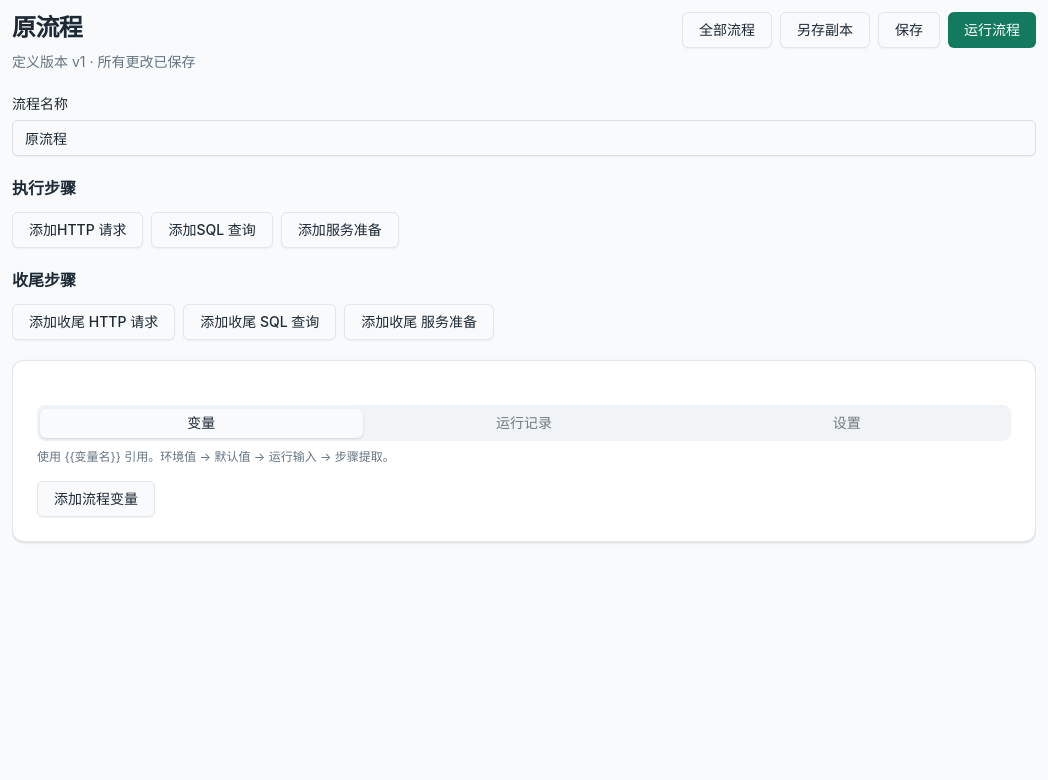
Scenario: retains live drafts after successful saves and version conflicts
This screenshot has width=1048, height=780.
Replace the text in the field labelled "流程名称" with "第一次保存" at (524, 138), box [12,120,1036,156]
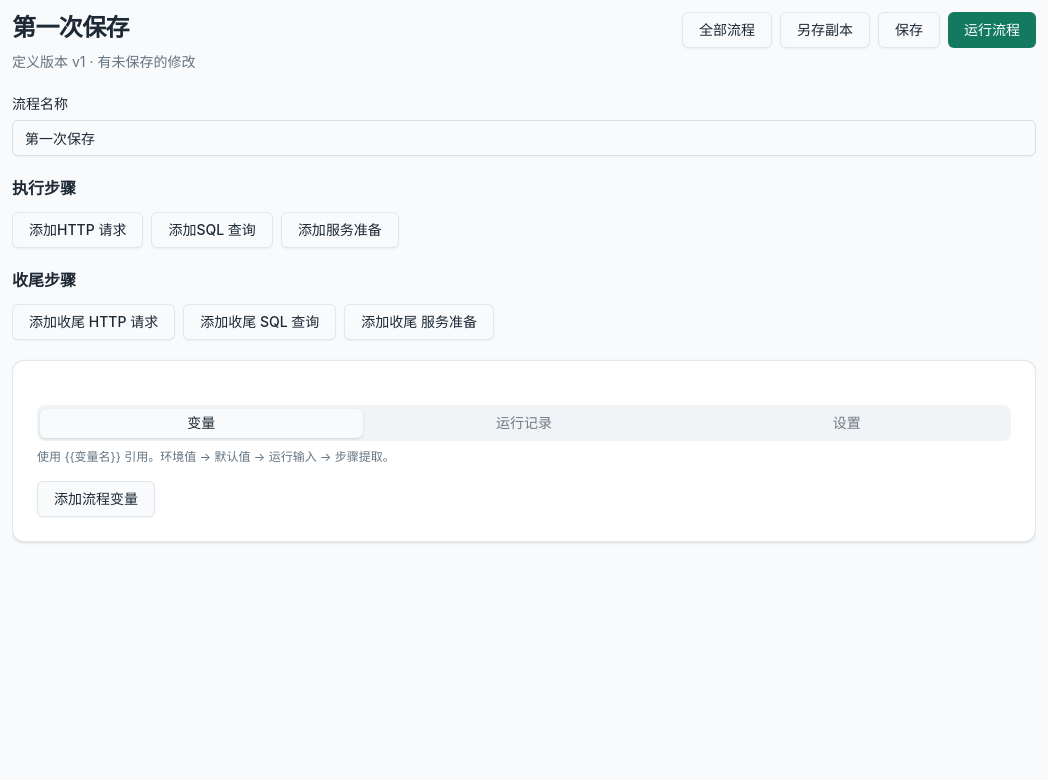
Click the button "保存" at (909, 30), box [878,12,940,48]
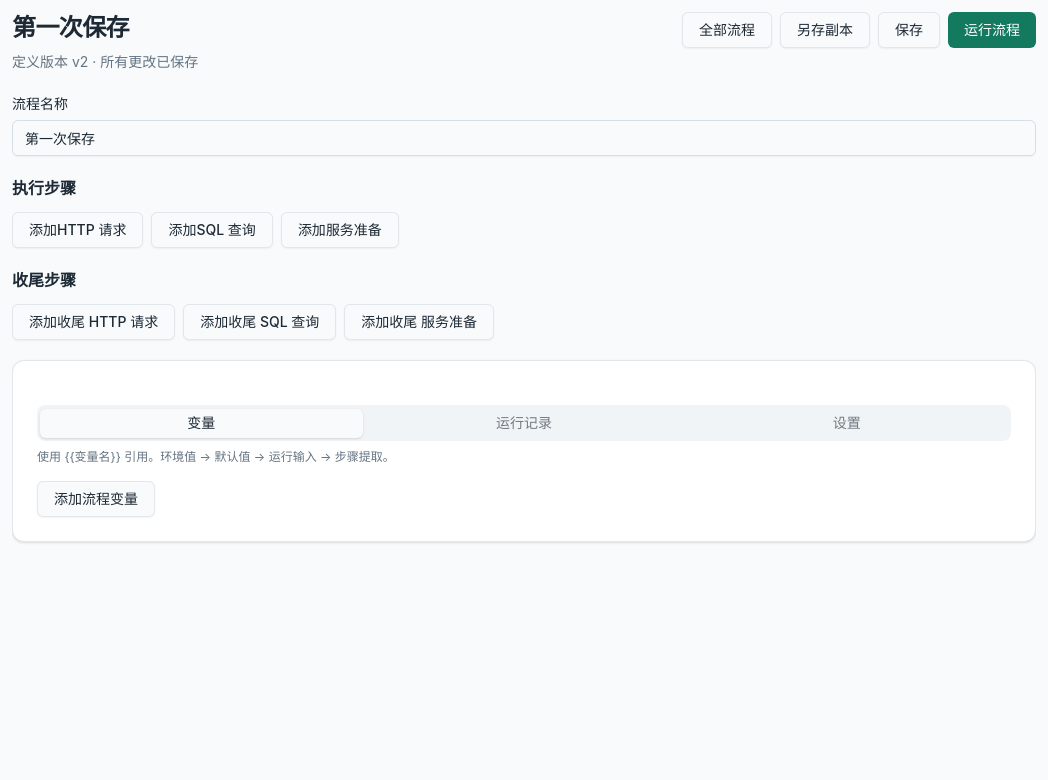
Check: the text "定义版本 v2 · 所有更改已保存" is shown, box [12,50,198,74]
Replace the text in the field labelled "流程名称" with "第二次修改" at (524, 138), box [12,120,1036,156]
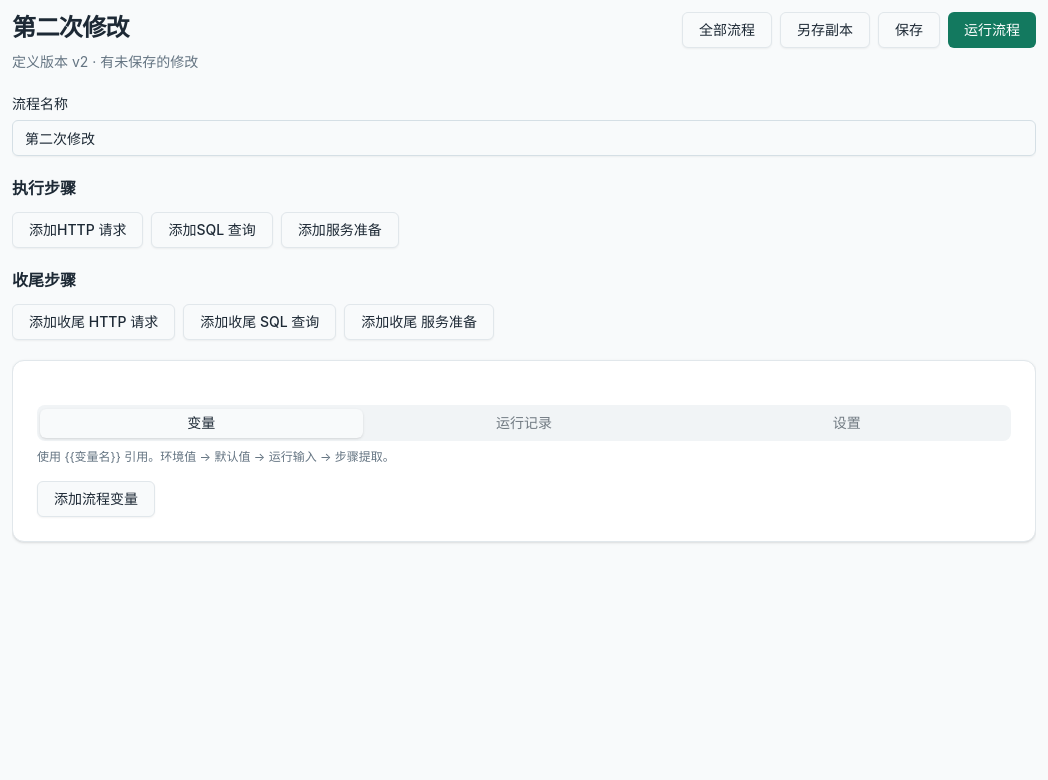
Click the button "保存" at (909, 30), box [878,12,940,48]
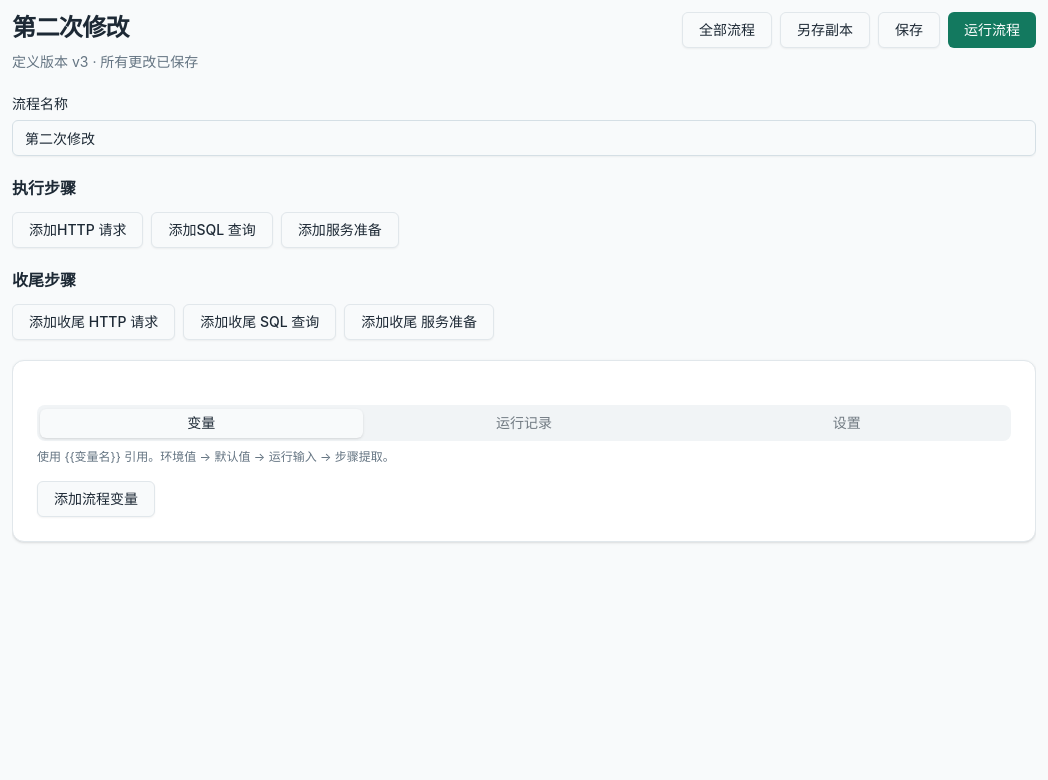
Check: the heading "第二次修改" is shown, box [12,13,129,42]
Check: the text "定义版本 v3 · 所有更改已保存" is shown, box [12,50,198,74]
Replace the text in the field labelled "流程名称" with "本地保留草稿" at (524, 138), box [12,120,1036,156]
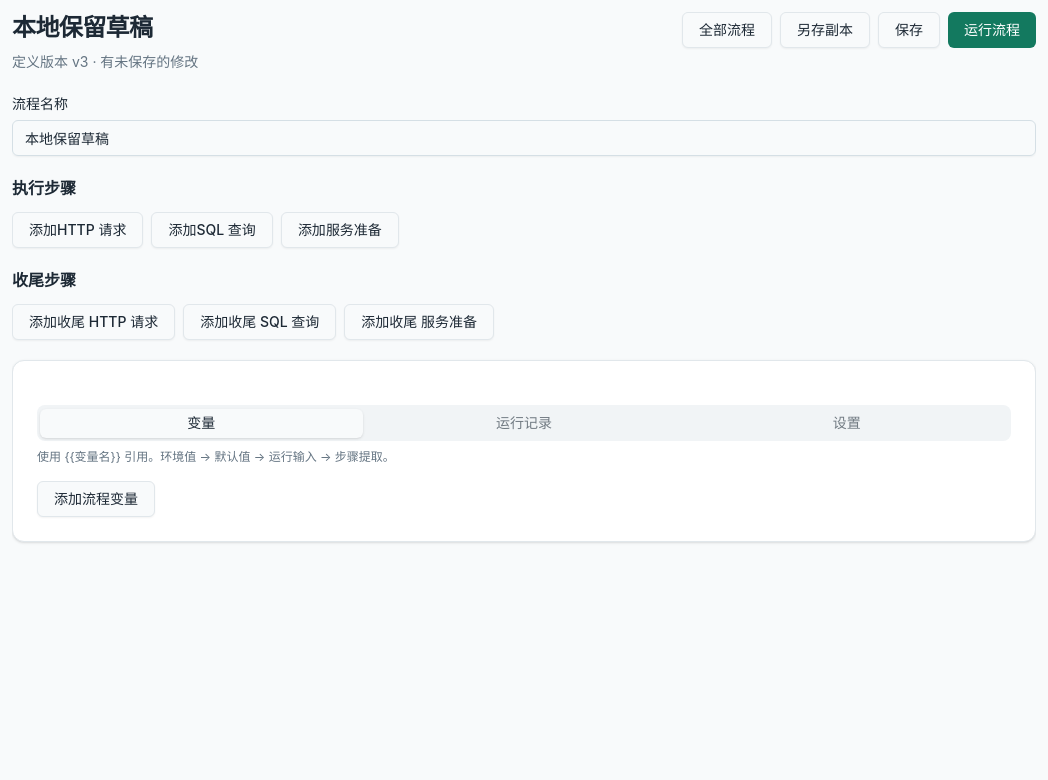
Click the button "保存" at (909, 30), box [878,12,940,48]
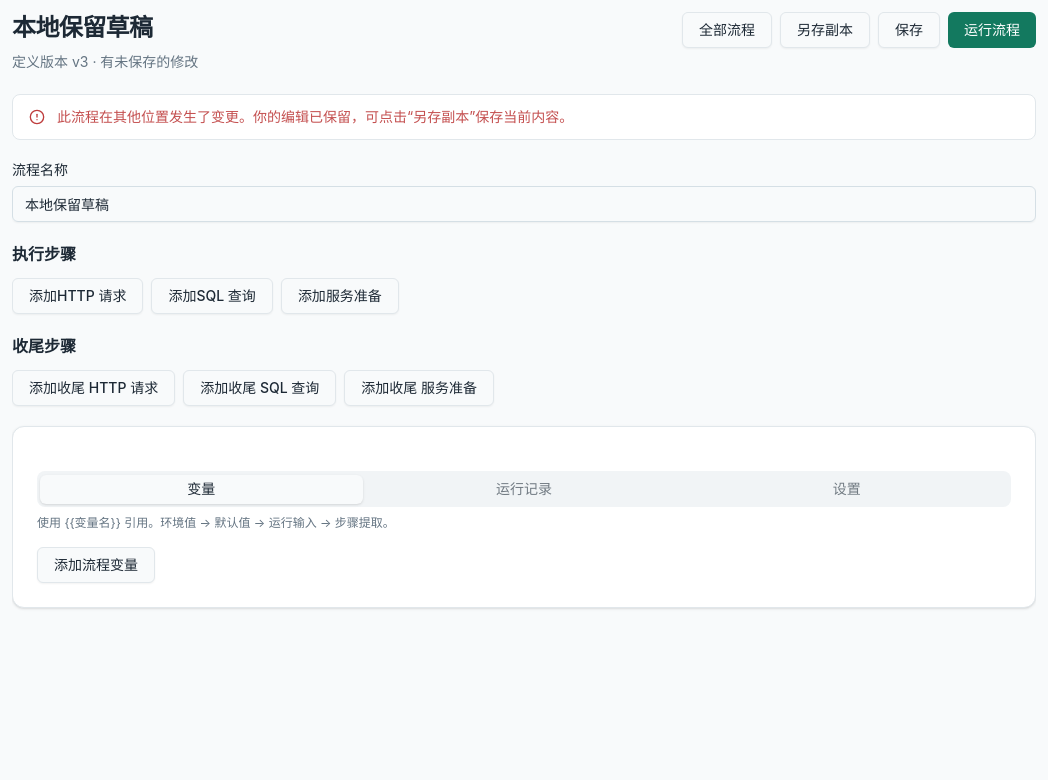
Check: the message shows "另存副本", box [57,108,573,125]
